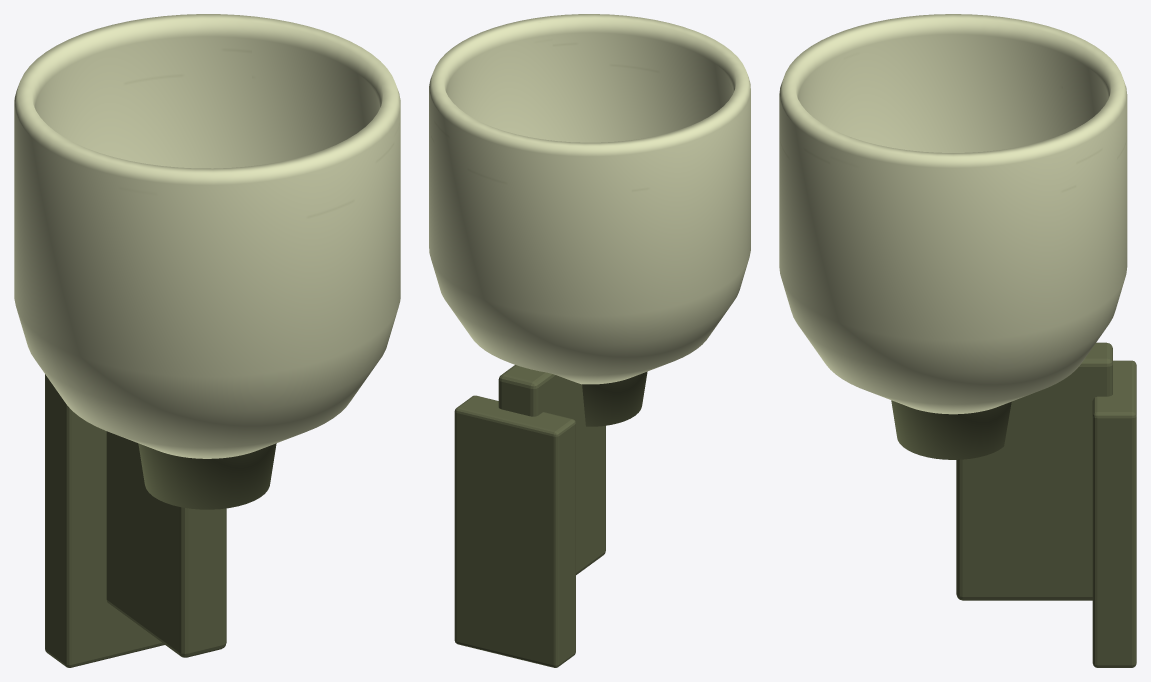
The model's file is StraightLamp_ARCH01_C1.fbx.
3 renders of one model, left to right at view 1: azimuth 30°, elevation 25°; view 2: azimuth 150°, elevation 25°; view 3: azimuth 270°, elevation 25°, orthographic. The views are drawn at different scales.
Visible parts, largest first — view 1: StraightLamp; view 2: StraightLamp; view 3: StraightLamp.
Boxes of the visible parts, x1,y1,x2,y2 form: StraightLamp: (14, 14, 400, 667); StraightLamp: (429, 14, 750, 667); StraightLamp: (779, 14, 1136, 667).
Size of the model in its own units: 0.222 by 0.3914 by 0.228.
2 materials, 1 textured.
